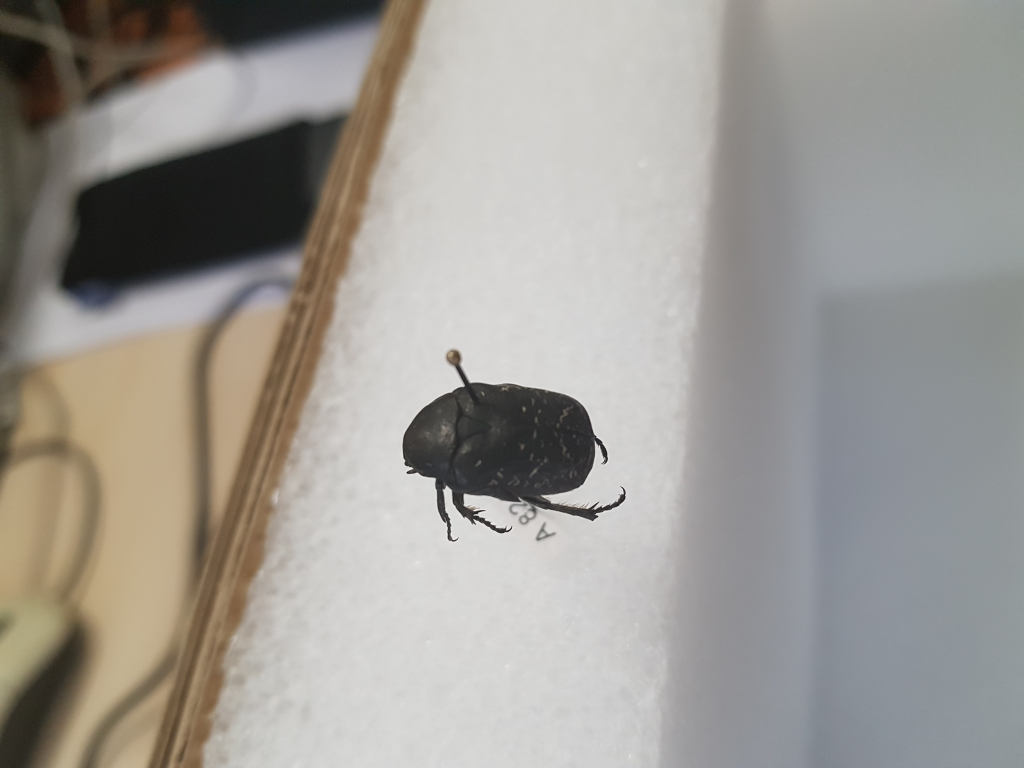Protaetia_oblonga: (396, 373, 632, 551)
